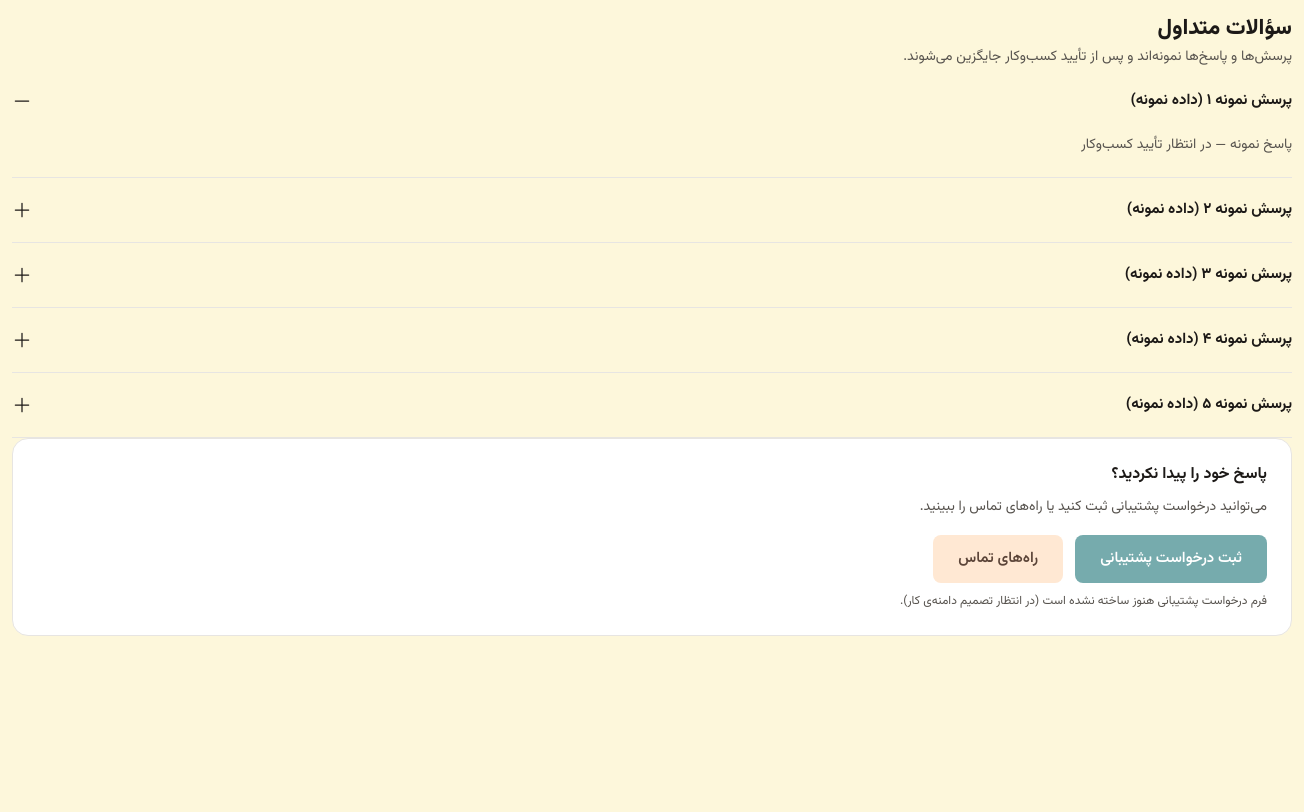
Test case: round 1 › P6 FAQ accordion (246:15454) + contact (246:15613); ticket form not built
Click the button "پرسش نمونه ۲ (داده نمونه)": [1252, 209] box [12,178,1292,242]
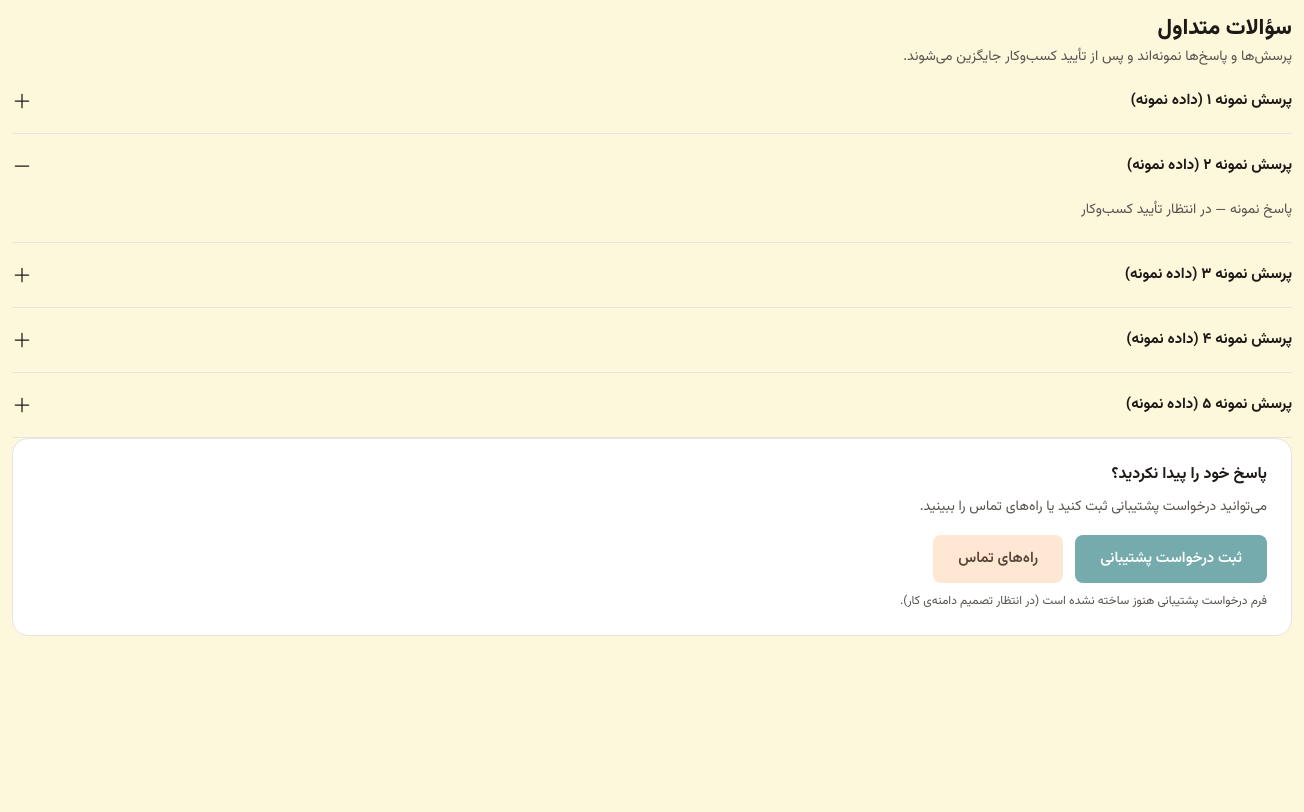
Expected: the button "پرسش نمونه ۲ (داده نمونه)" is expanded, [12,134,1292,198]
Expected: the button "پرسش نمونه ۱ (داده نمونه)" is collapsed, [12,69,1292,133]
